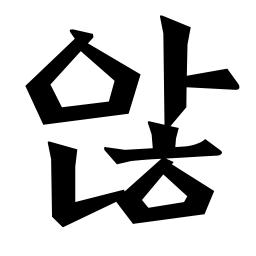Gaji: (153, 63, 207, 103)
